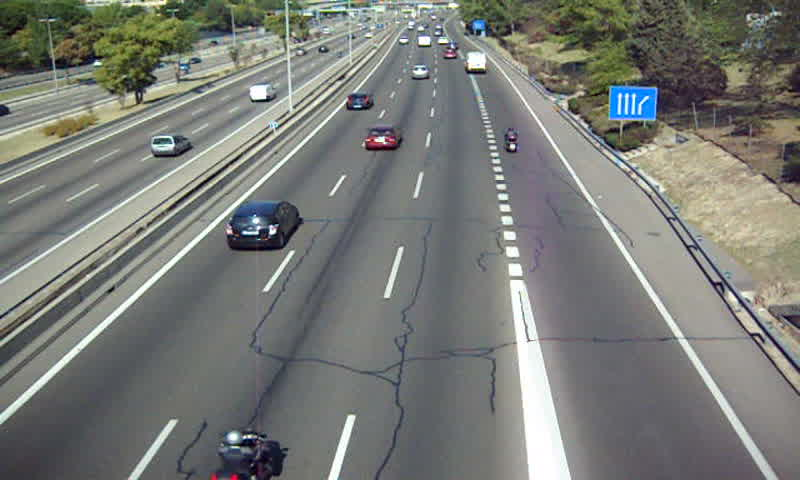car: (224, 201, 299, 251), (363, 124, 402, 151), (343, 91, 374, 110), (409, 65, 428, 80), (440, 48, 458, 60), (396, 34, 410, 45)
motorcycle: (210, 430, 271, 480), (502, 125, 522, 155)
van: (463, 51, 488, 74), (418, 36, 430, 46)
